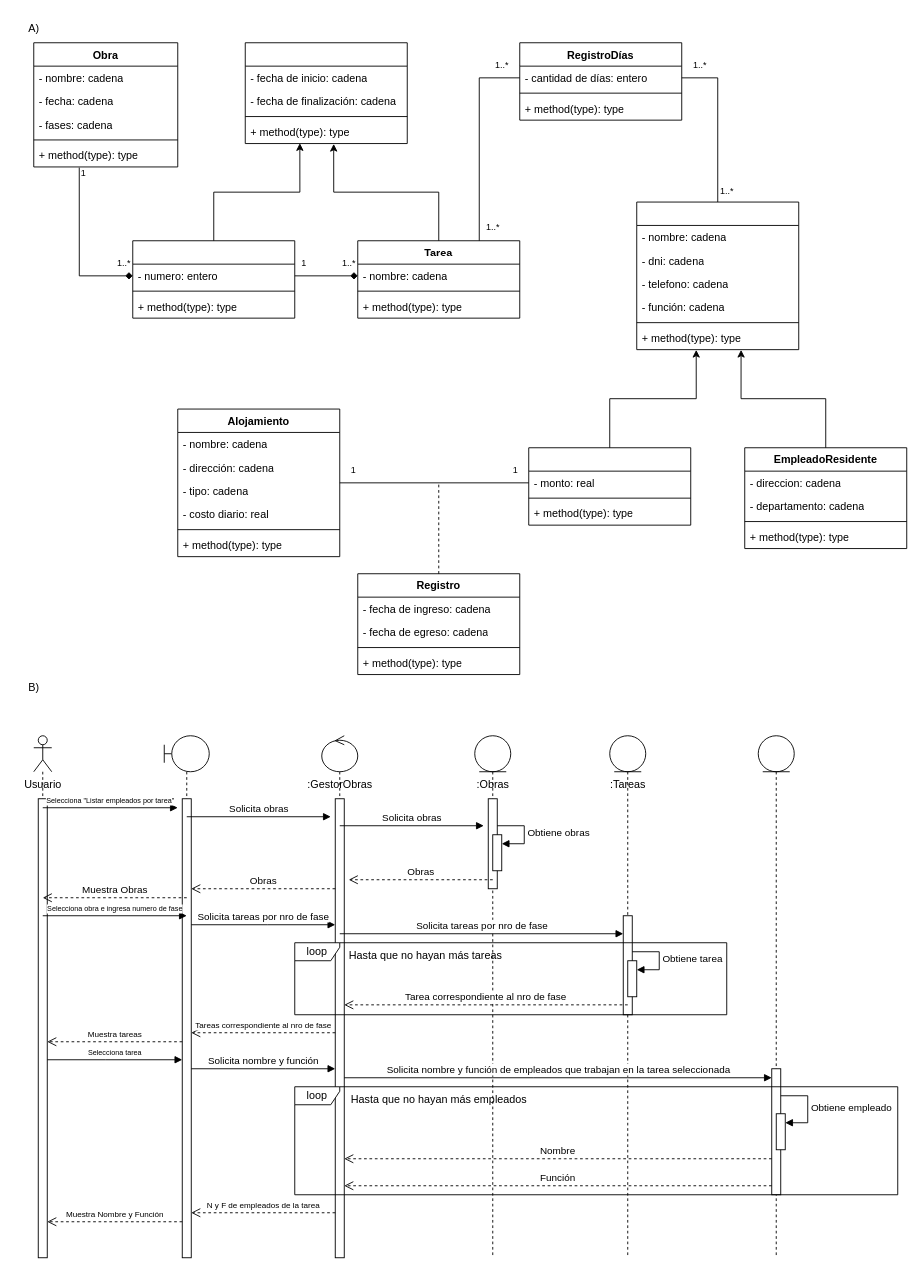
This 923x1274 diagram has some shape labels left out. The shapes that lost their labels are listed below. From the top down, each one's box as (x1, y1, x2, y2) in pixels, then its label:
(244, 42, 407, 144): Actividad
(132, 240, 295, 318): Fase
(636, 201, 799, 350): Empleado
(528, 447, 691, 525): EmpleadoNoResidente
(163, 735, 209, 1258): :InterfazDelSistema
(757, 735, 794, 1258): :Empleados
